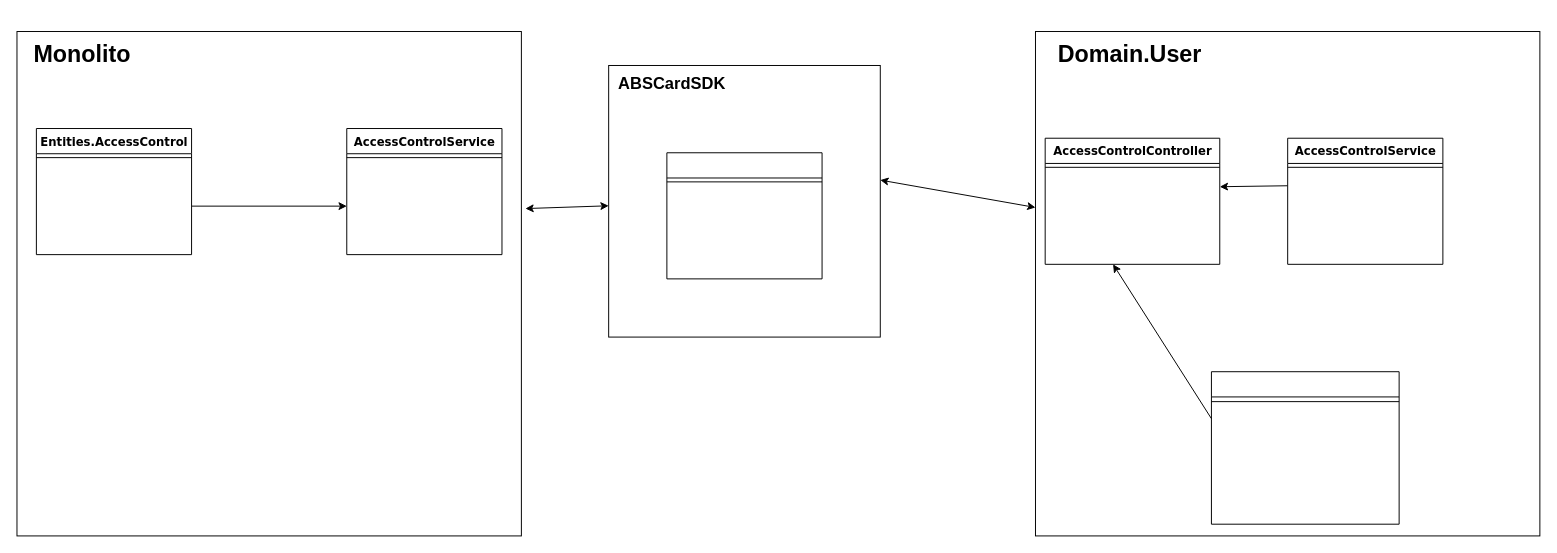
The diagram is 1557 pixels wide and 553 high, and some of its shapes have lost their labels. The centre of each missing label's shape, as x and y in pixels:
AccessControlDTO: point 1304,447
IJsonApiClient: point 744,215
